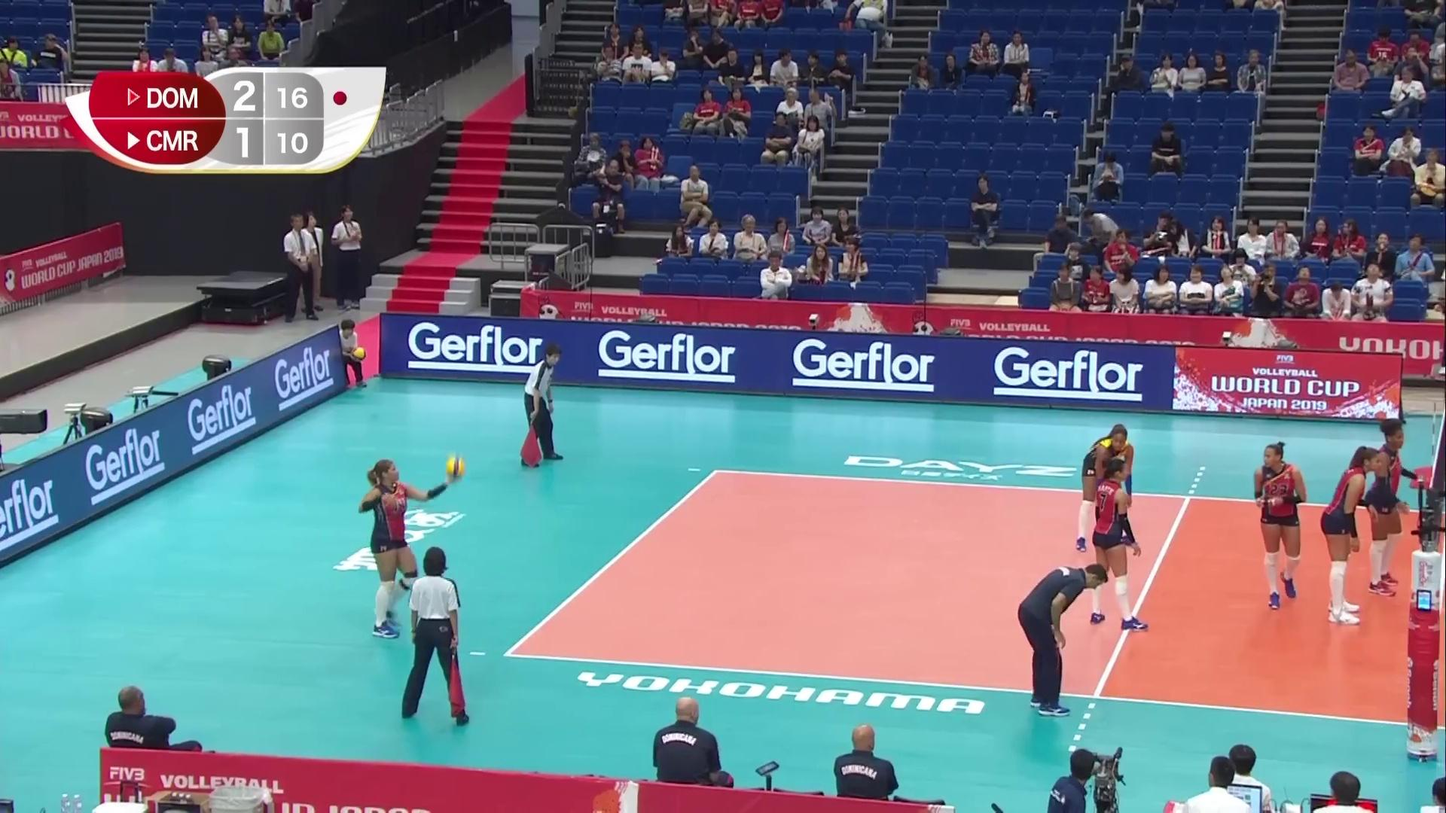player: (361, 458, 464, 638), (1363, 418, 1423, 594), (1322, 447, 1380, 627), (1090, 460, 1148, 632), (1254, 440, 1306, 607), (1076, 425, 1135, 551)
refree: (402, 552, 468, 726), (521, 345, 564, 466)
